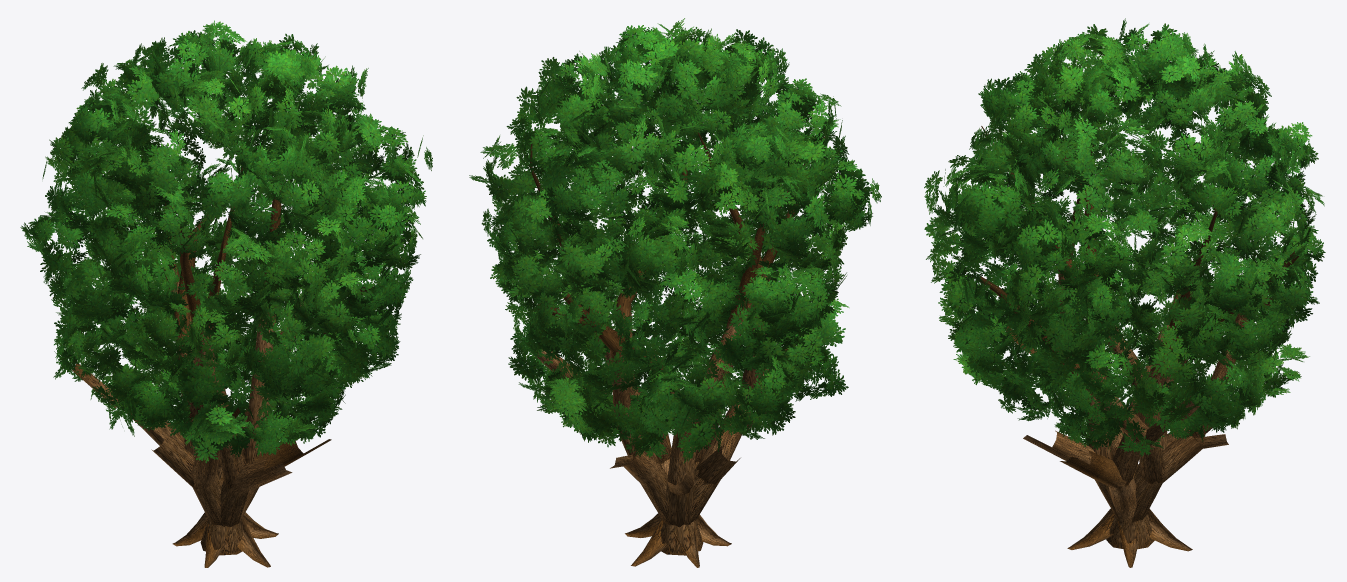
Rendered from mm6_deco_tree13.glb.
3 views of the same model, side by side, from view 1: azimuth 30°, elevation 25°; view 2: azimuth 150°, elevation 25°; view 3: azimuth 270°, elevation 25° (orthographic).
Parts seen in each view (by area): view 1: Tree; view 2: Tree; view 3: Tree.
Boxes of the visible parts, bbox=[...] form: Tree: bbox=[20, 20, 432, 567]; Tree: bbox=[469, 18, 881, 567]; Tree: bbox=[924, 18, 1325, 567].
Size of the model in its own units: 5.84 by 7.9 by 5.8.
Materials: 2 (2 with a texture image).
